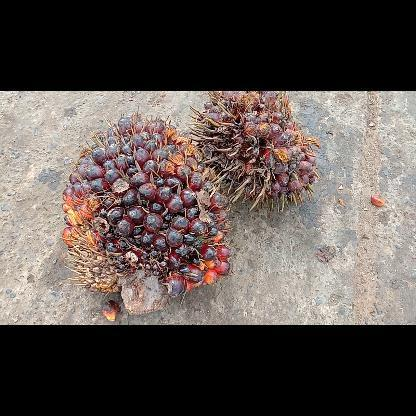Kurang masak: (59, 105, 233, 315)
TBS masak: (189, 90, 320, 212)
